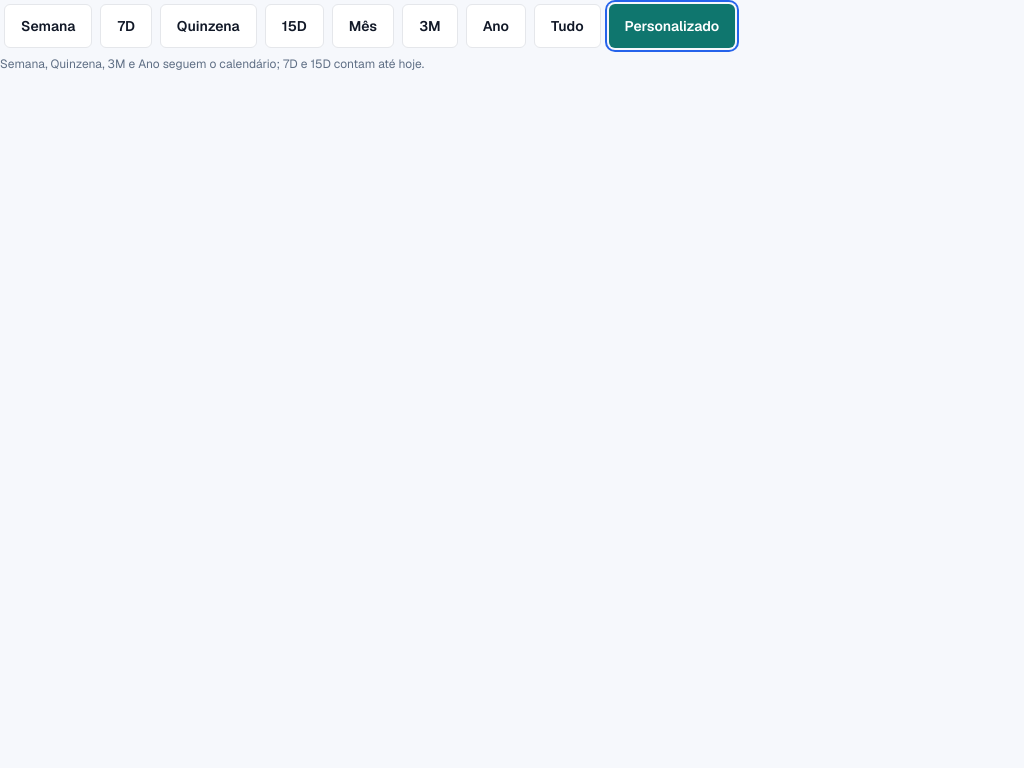
FinancialPeriodSelector › discards draft dates on cancel and restores the applied URL values
The image size is (1024, 768).
Step 1. Click the button with aria-label "Escolher período personalizado" → point(672, 26), box [609,4,735,48]
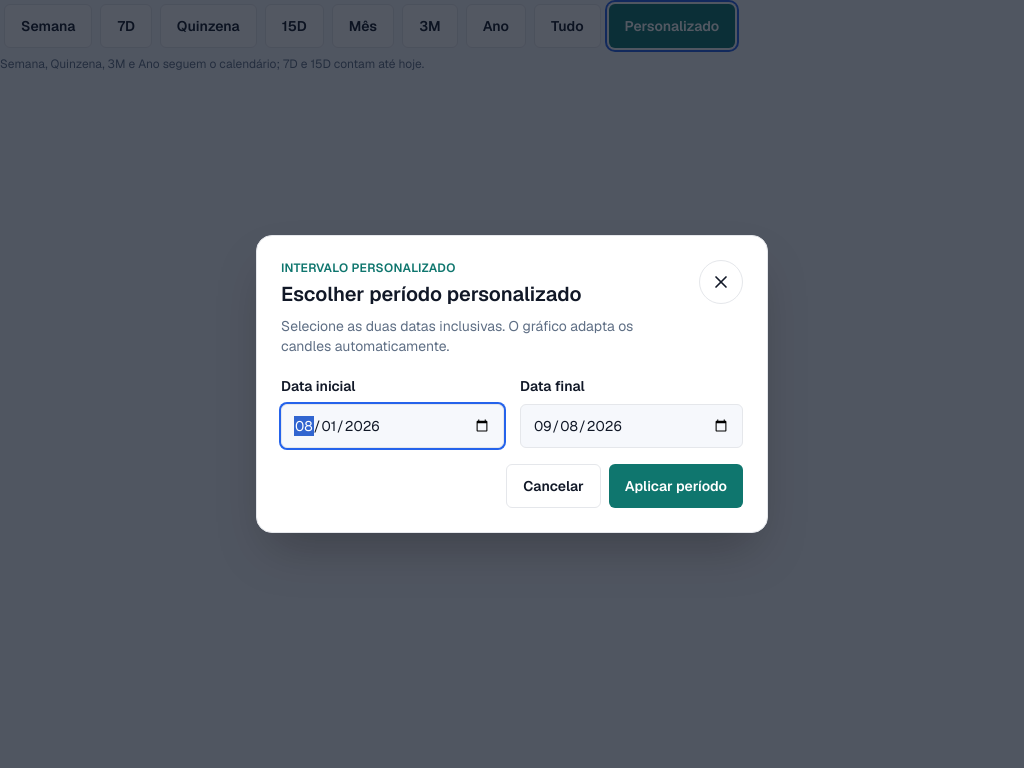
Step 2. Type "2026-09-01" into the date field labelled "Data inicial" → point(392, 426), box [281,404,504,448]
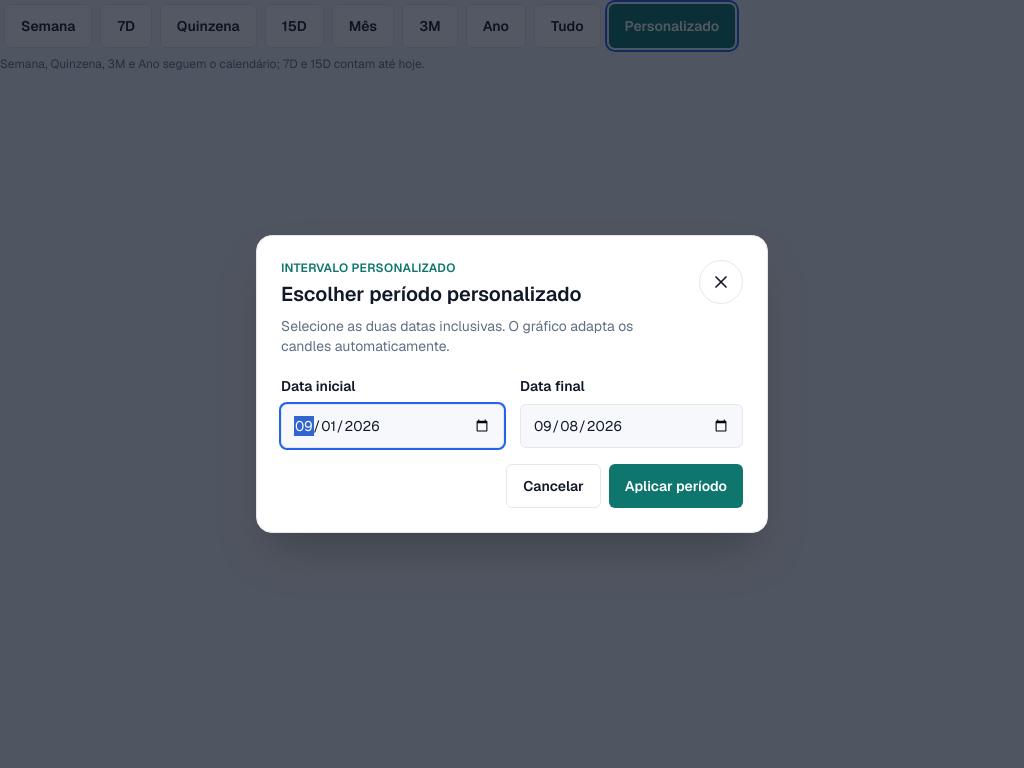
Step 3. Click the button "Cancelar" → point(554, 486), box [506,464,601,508]
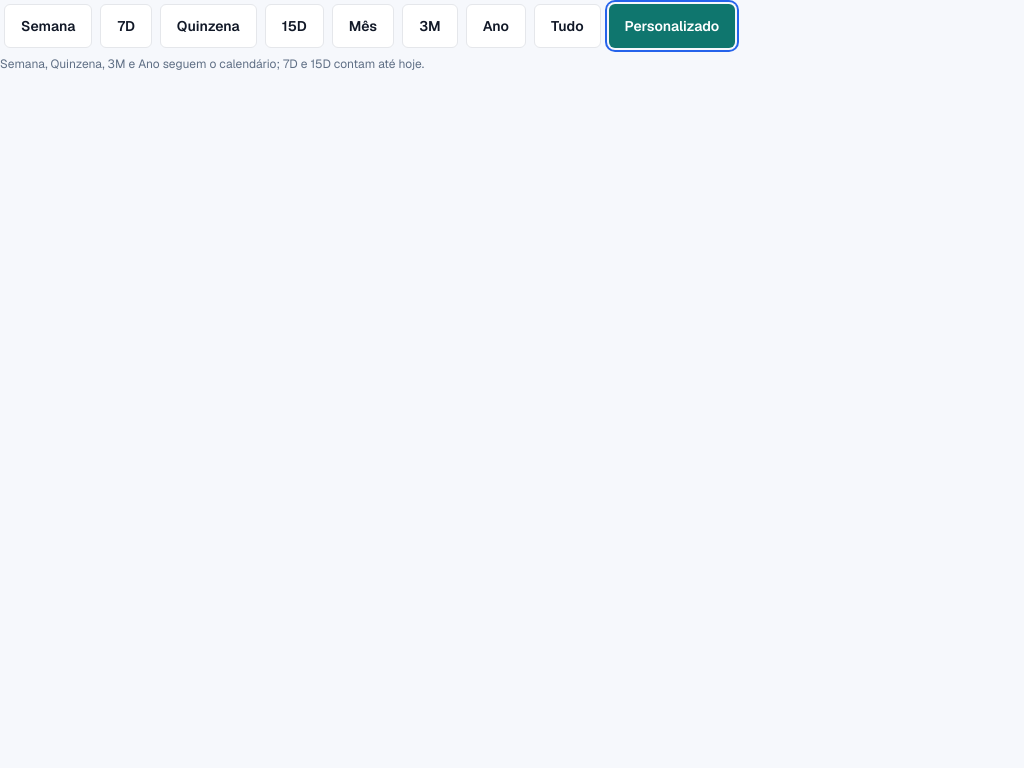
Step 4. Click the button with aria-label "Escolher período personalizado" → point(672, 26), box [609,4,735,48]
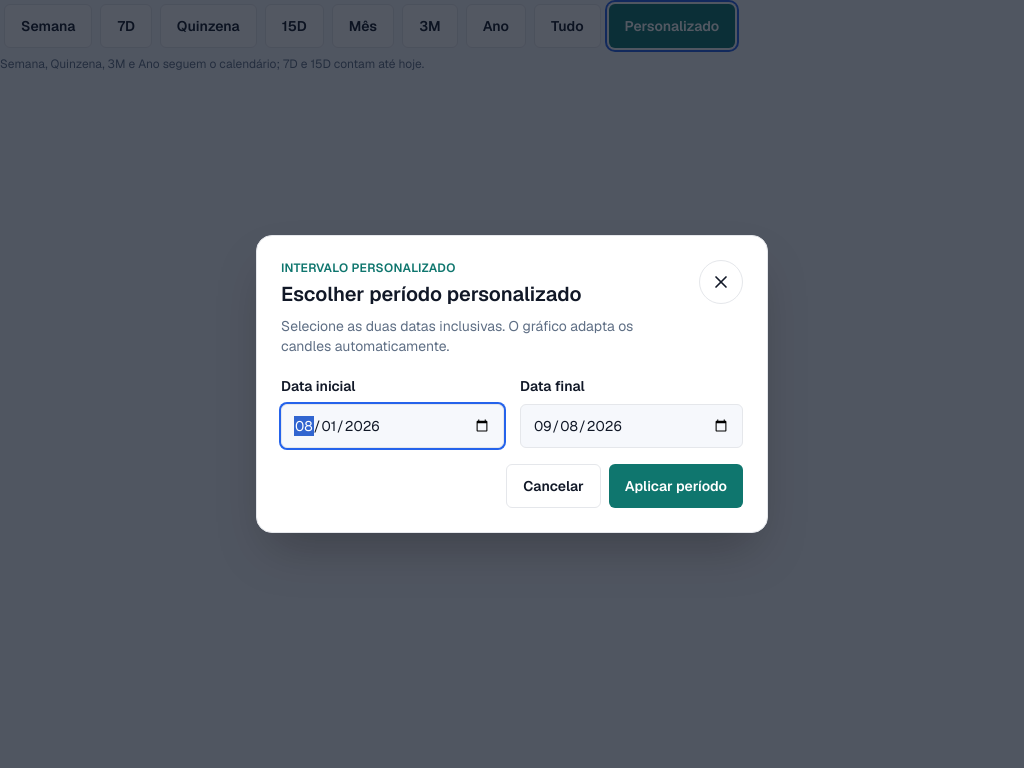
Expected: the date field labelled "Data inicial" holds "2026-08-01", [281,404,504,448]
Expected: the date field labelled "Data final" holds "2026-09-08", [520,404,743,448]
